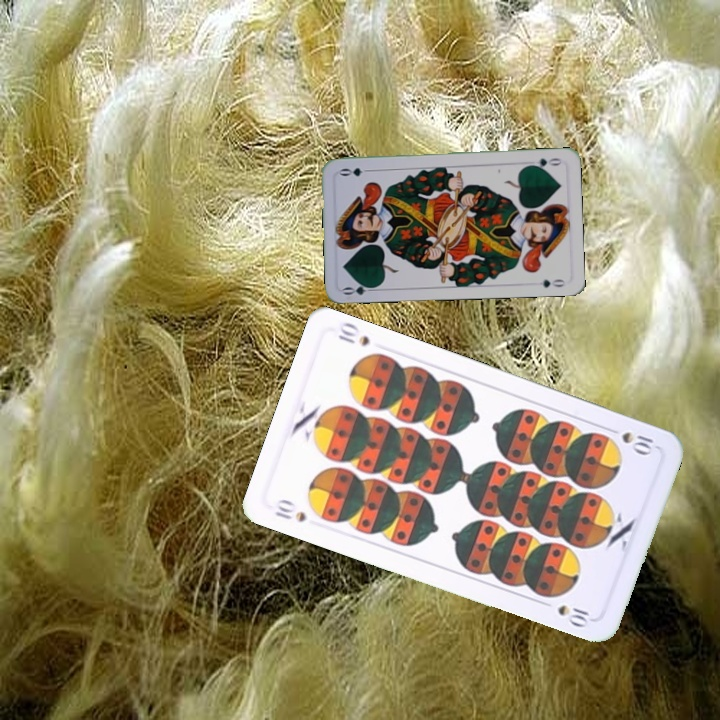GO: (340, 279, 380, 297), (524, 154, 564, 171)
S10: (602, 423, 658, 458), (271, 495, 309, 525)
